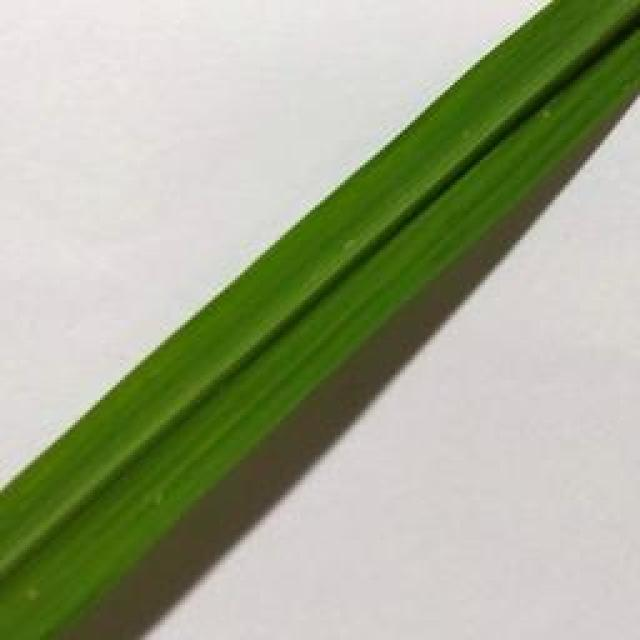Healthy-Plant: (319, 61, 495, 401), (0, 335, 178, 640), (167, 206, 328, 536), (464, 0, 640, 267)
